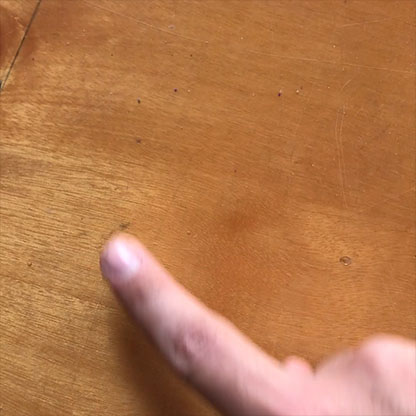fingertip: (87, 218, 155, 298)
